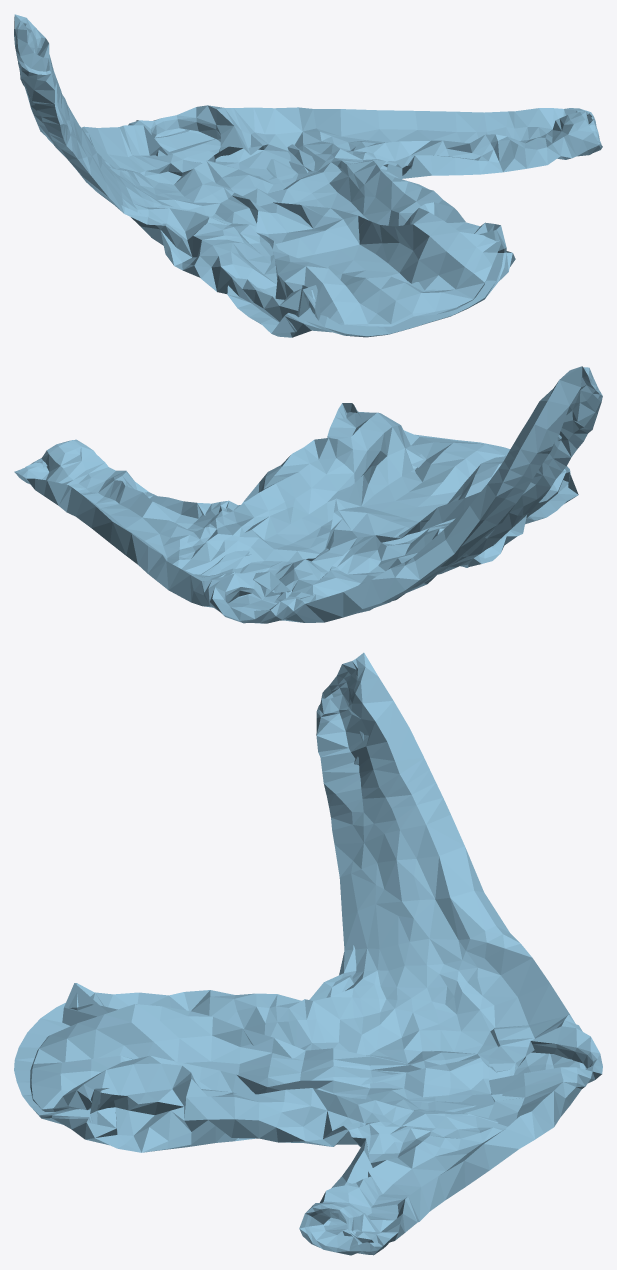
File: frame_06.glb
3 views of the same model, one above another, from view 1: azimuth 30°, elevation 25°; view 2: azimuth 150°, elevation 25°; view 3: azimuth 270°, elevation 25° (orthographic). The views are drawn at different scales.
Visible parts, largest first — view 1: frame_06.obj; view 2: frame_06.obj; view 3: frame_06.obj.
Boxes of the visible parts, left/top/right/bottom form: frame_06.obj: left=14, top=14, right=602, bottom=337; frame_06.obj: left=14, top=366, right=602, bottom=623; frame_06.obj: left=14, top=652, right=602, bottom=1255.
Bounding box in the file's own units: 1.79 × 0.8024 × 1.38.
